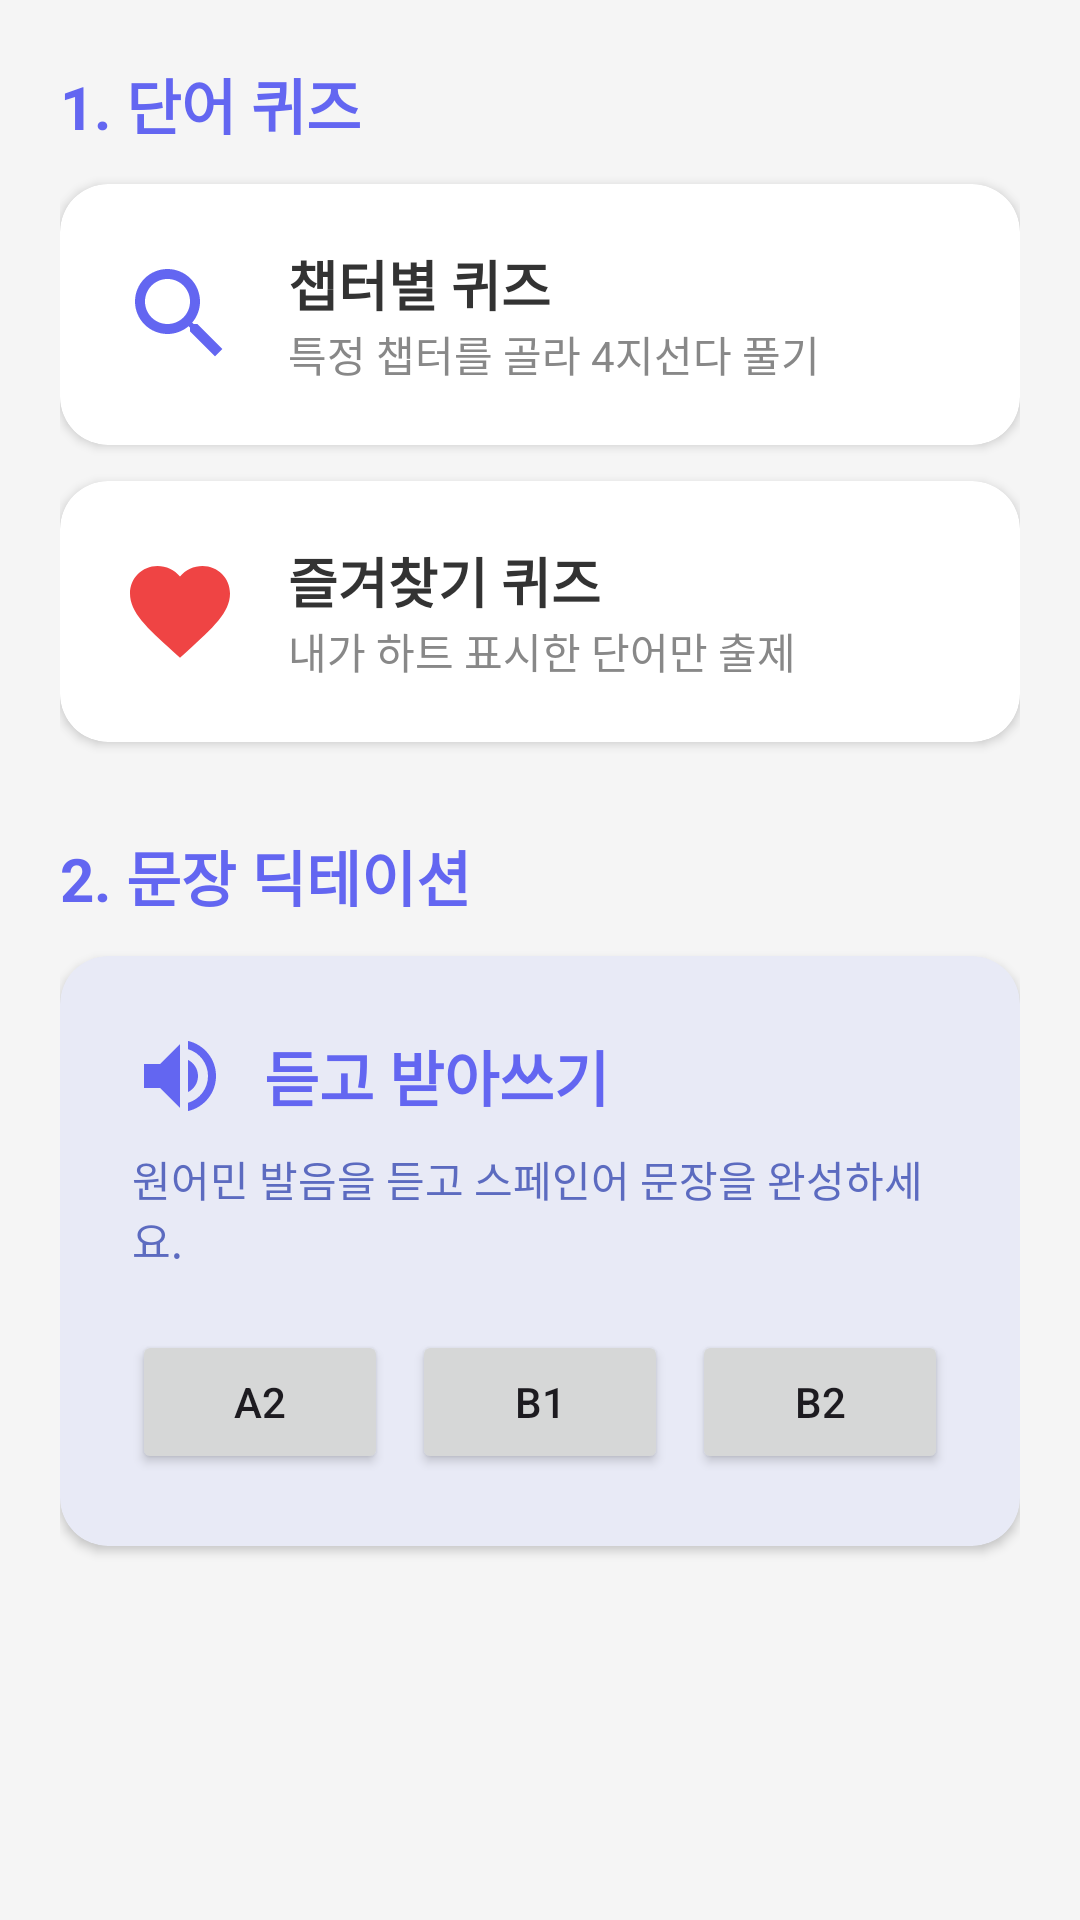

Locate icon controls on the screen. Image size 1080 × 1920, boxes as (x1, y1, x2, y2).
favorite: (130, 566, 230, 658)
search: (135, 269, 222, 356)
volume up: (144, 1041, 216, 1111)
